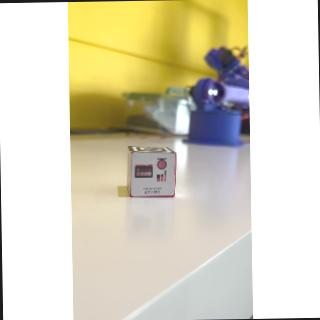Expired_Cosmetic: (131, 153, 177, 200)
